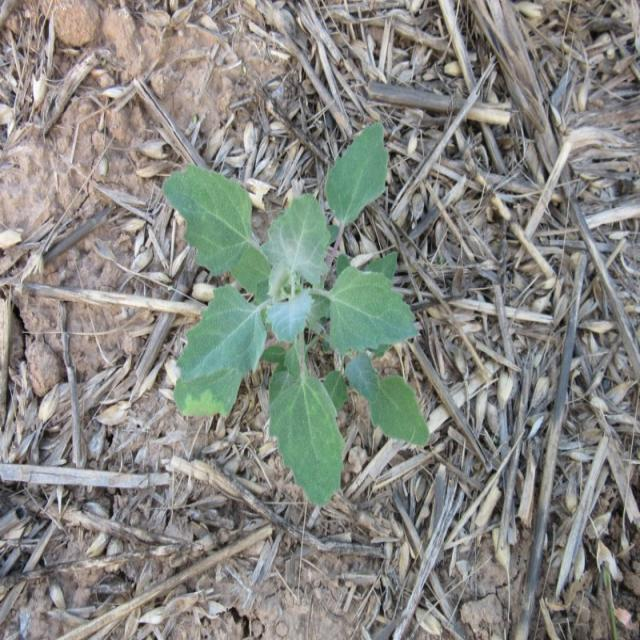ca: (164, 123, 430, 500)
